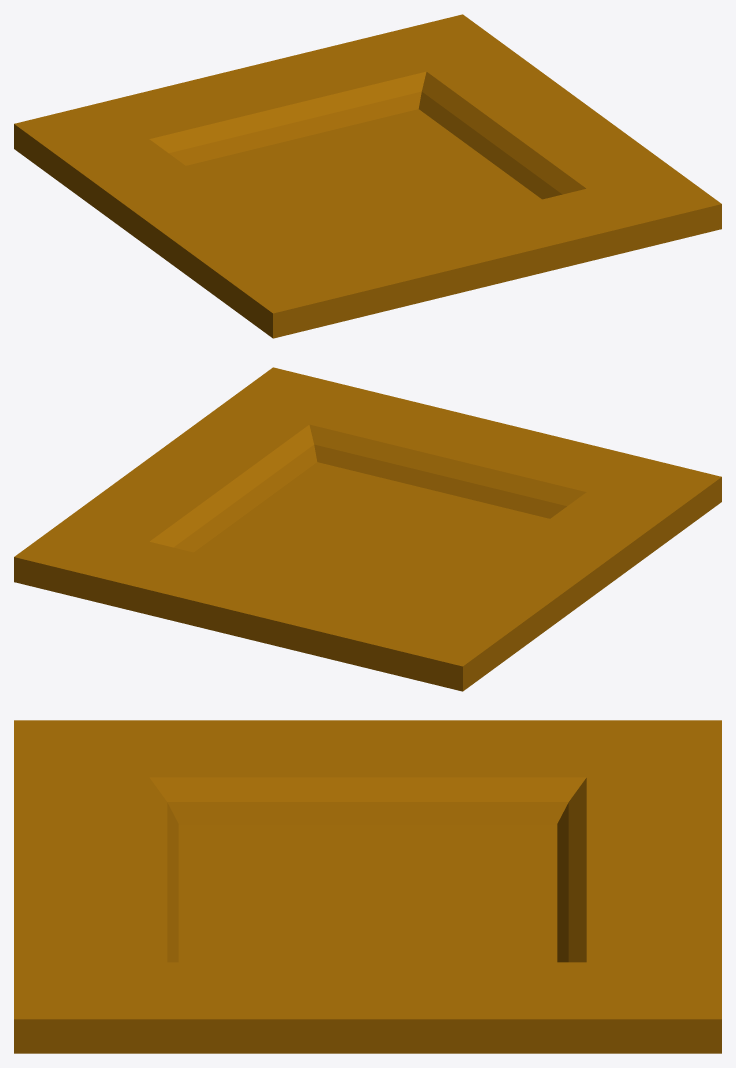
Rendered from arena.fbx.
3 renders of one model, top to bottom at view 1: azimuth 30°, elevation 25°; view 2: azimuth 150°, elevation 25°; view 3: azimuth 270°, elevation 25°, orthographic. The views are drawn at different scales.
Visible parts, largest first — view 1: Plane; view 2: Plane; view 3: Plane.
Part boxes in pixels (x1,y1,x2,y2): Plane: [14, 14, 721, 338]; Plane: [14, 367, 721, 691]; Plane: [14, 720, 721, 1053].
Size of the model in its own units: 37415 by 2000 by 37415.
